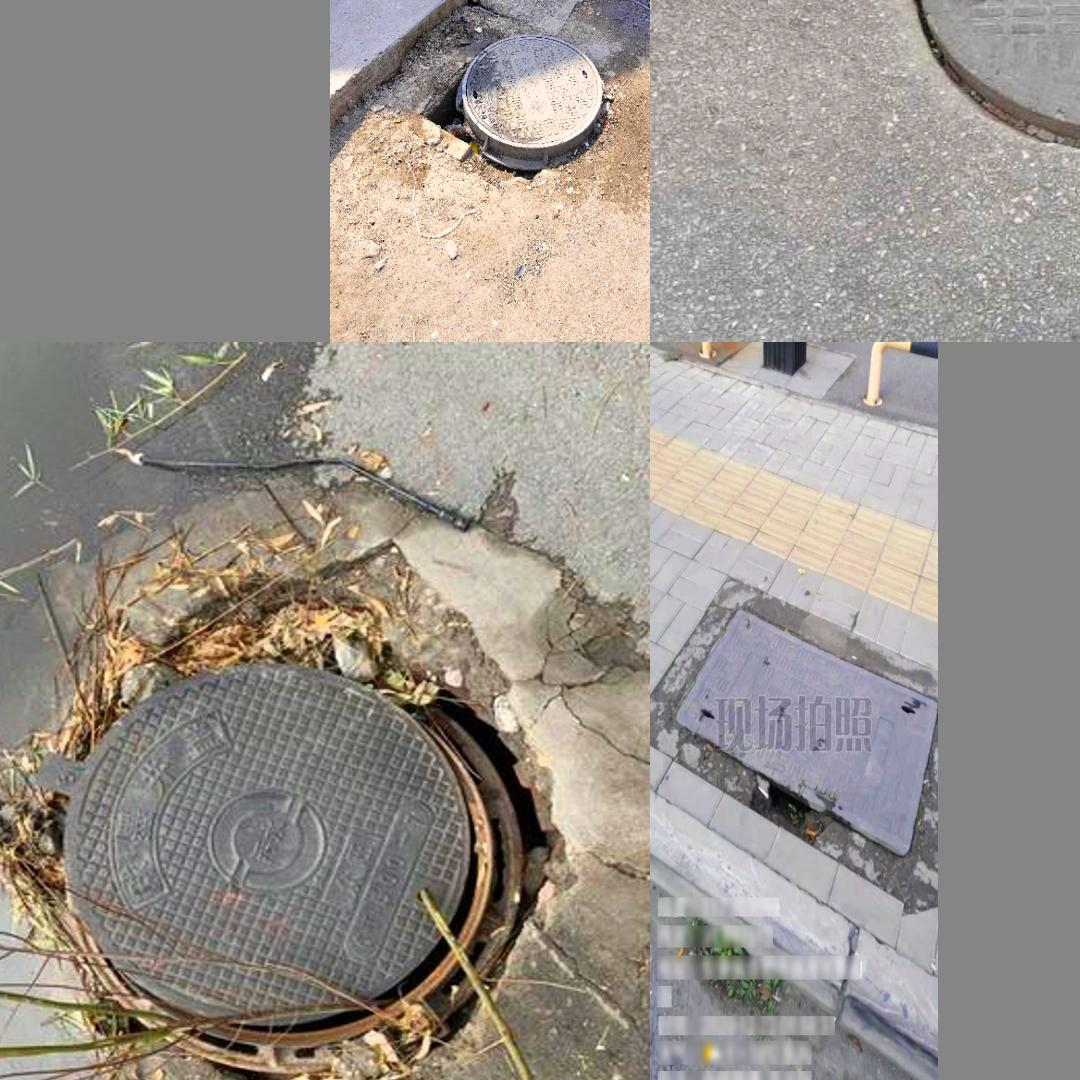circle: (0, 472, 639, 1080), (653, 577, 938, 882), (887, 0, 1080, 167), (434, 25, 611, 175)
